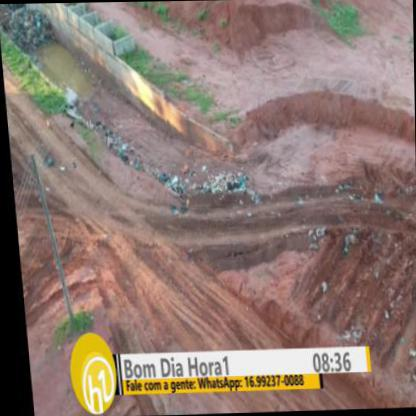agua: (46, 44, 76, 80)
lixo: (167, 168, 251, 202), (17, 14, 48, 42), (102, 131, 128, 164)
